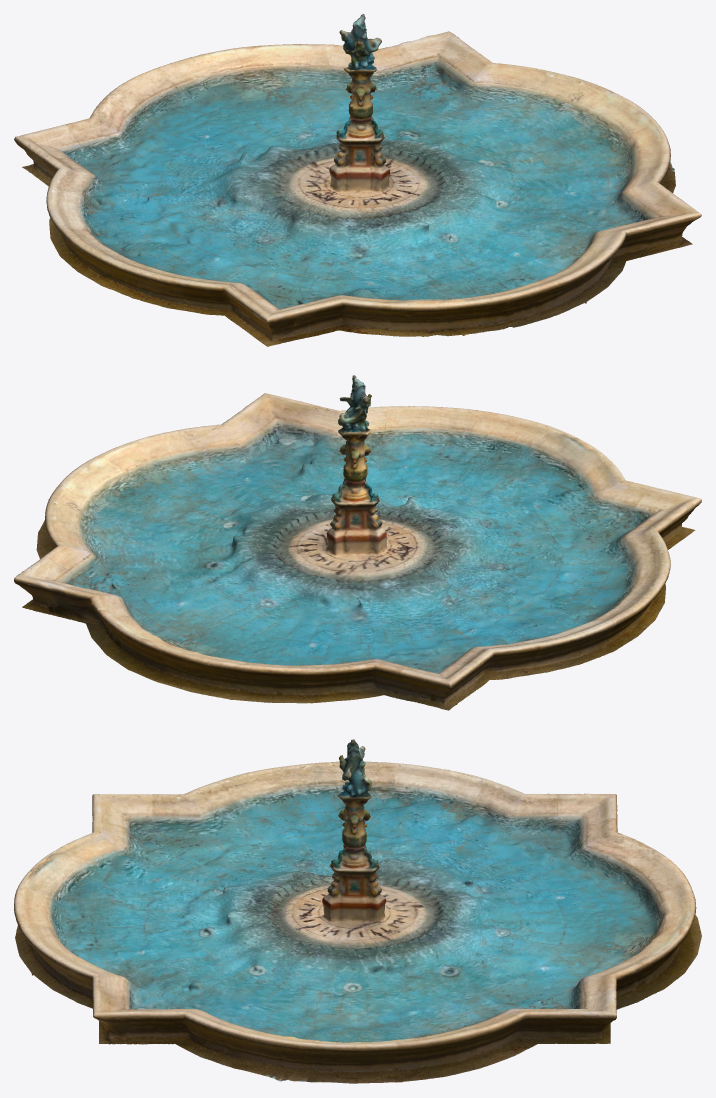
Rendered from zsolnay_fountain.glb.
3 renders of one model, top to bottom at view 1: azimuth 30°, elevation 25°; view 2: azimuth 150°, elevation 25°; view 3: azimuth 270°, elevation 25°, orthographic. The views are drawn at different scales.
Visible parts, largest first — view 1: Mesh_0_Material_0_0 (×2); view 2: Mesh_0_Material_0_0 (×2); view 3: Mesh_0_Material_0_0 (×2).
Part boxes in pixels (x1=…): Mesh_0_Material_0_0 (×2): x1=14, y1=14, x2=701, y2=346; Mesh_0_Material_0_0 (×2): x1=14, y1=375, x2=701, y2=710; Mesh_0_Material_0_0 (×2): x1=14, y1=739, x2=701, y2=1083.
Size of what is drawn, in the model's own units: 8.04 by 2.61 by 8.04.
1 material, 1 textured.
